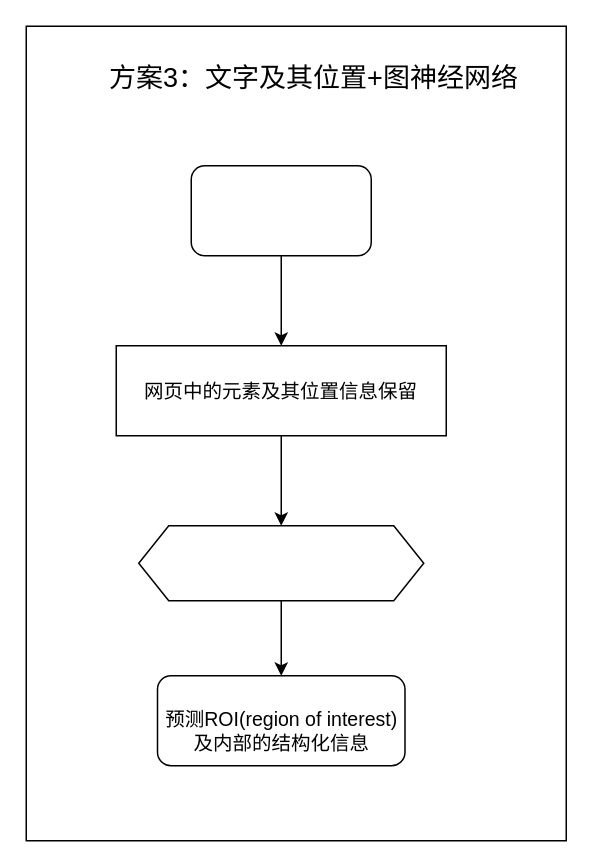
Image size: 596x867. Some labels were removed from this diagram. The shapes that lost their labels are listed below. From the top down, each one's centre as x and y in pixels, then its label:
[280,210]: 公司网页
[280,562]: 图神经网络
